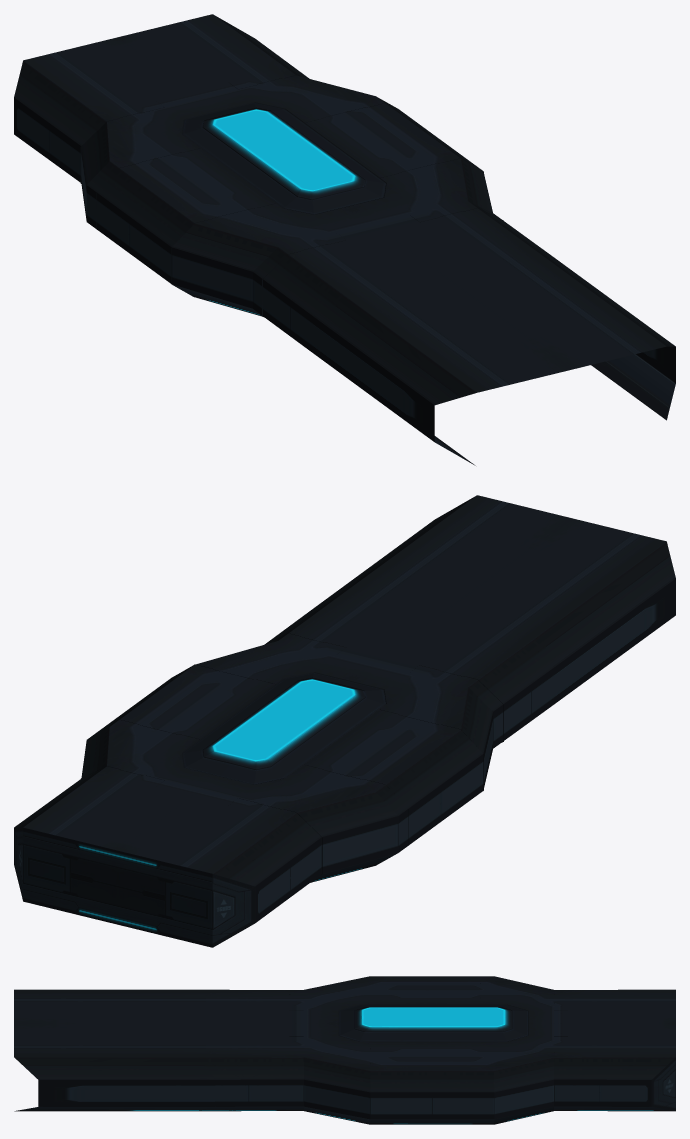
File: ts_nxlcobj001.FBX
3 views of the same model, one above another, from view 1: azimuth 30°, elevation 25°; view 2: azimuth 150°, elevation 25°; view 3: azimuth 270°, elevation 25° (orthographic). The views are drawn at different scales.
Visible parts, largest first — view 1: ts_nxlcobj001; view 2: ts_nxlcobj001; view 3: ts_nxlcobj001.
Boxes of the visible parts, <box> form: ts_nxlcobj001: <box>14,14,675,465</box>; ts_nxlcobj001: <box>14,495,675,947</box>; ts_nxlcobj001: <box>14,976,675,1124</box>.
Bounding box in the file's own units: 22.54 × 5.71 × 56.78.
